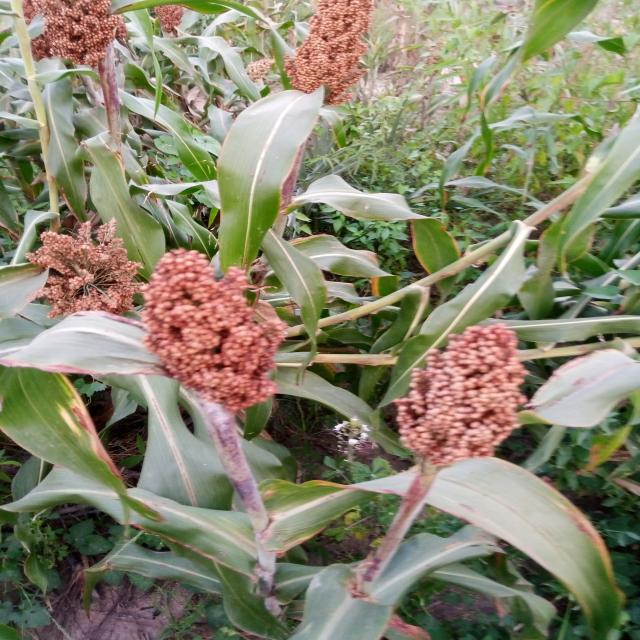RipeSorghum: (130, 234, 328, 434), (385, 311, 546, 503)
